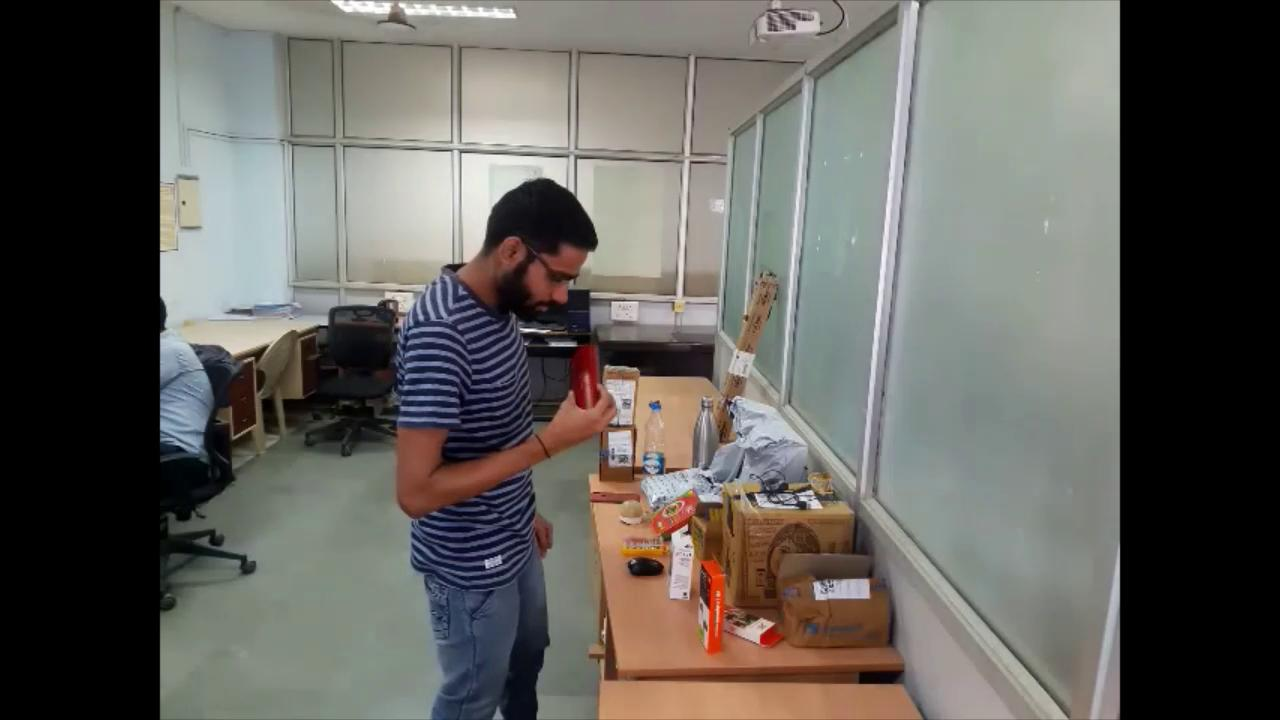Normal: (380, 165, 617, 719)
